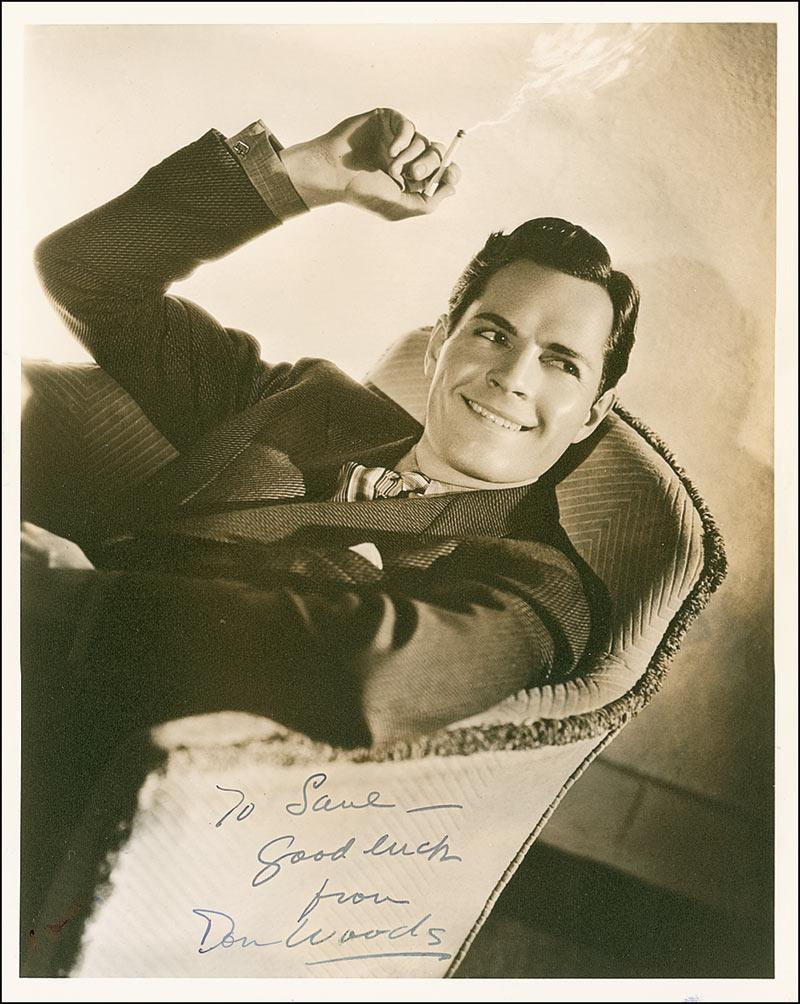bad: (407, 284, 593, 469)
